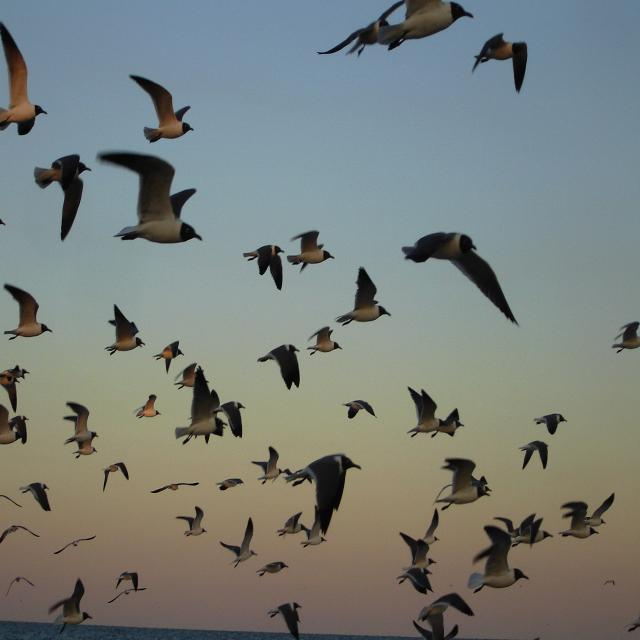bird: (399, 233, 524, 330), (311, 0, 481, 62), (103, 156, 204, 246), (284, 451, 364, 544), (0, 23, 52, 131), (174, 366, 241, 446), (38, 154, 89, 244), (469, 525, 530, 600), (132, 78, 195, 142), (469, 33, 529, 96), (432, 456, 491, 511), (339, 269, 392, 330), (404, 387, 464, 439), (396, 524, 438, 594), (3, 286, 55, 341), (412, 595, 476, 639), (559, 492, 615, 540), (242, 243, 290, 291), (259, 344, 305, 392), (287, 230, 337, 274), (49, 582, 93, 632), (219, 517, 258, 569), (108, 304, 147, 352), (1, 364, 32, 410), (268, 600, 303, 640), (304, 322, 344, 357), (249, 446, 284, 486), (1, 404, 32, 447), (62, 400, 96, 438), (150, 338, 185, 372), (273, 509, 308, 541), (54, 531, 97, 557), (22, 478, 53, 514), (611, 318, 640, 356), (0, 526, 40, 552), (174, 508, 207, 539), (101, 461, 132, 493), (522, 439, 551, 472), (534, 410, 568, 437), (152, 478, 200, 496), (343, 398, 378, 422), (112, 571, 143, 598), (4, 576, 36, 599), (256, 558, 288, 581), (132, 395, 160, 420), (68, 436, 97, 460), (2, 491, 24, 515), (216, 478, 246, 492)
